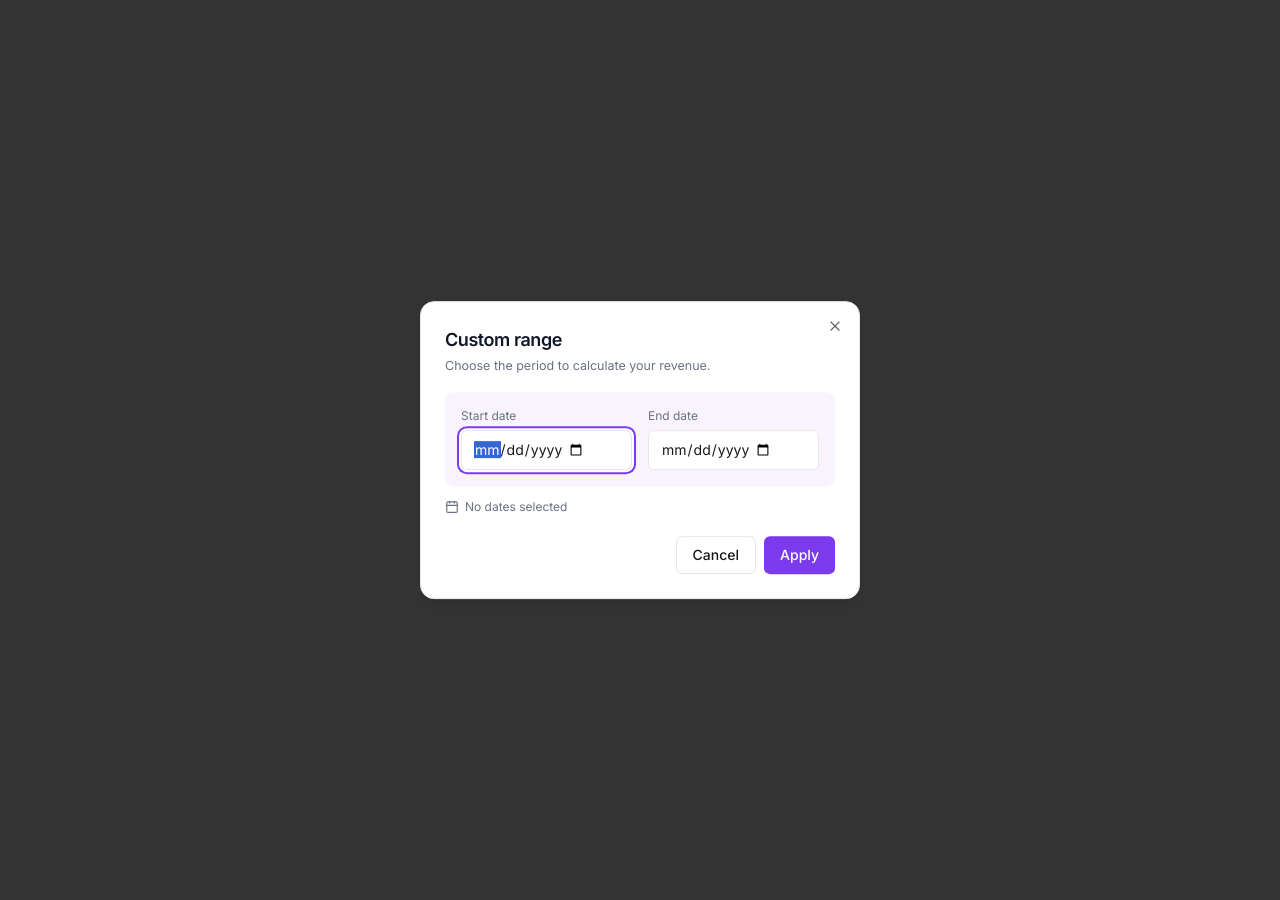
CustomRangeModal › stays open with the error line when a date is missing and clears it on the next pick
The width and height of the screenshot is (1280, 900).
Click the button "Apply" at (800, 555), box [764,536,835,574]
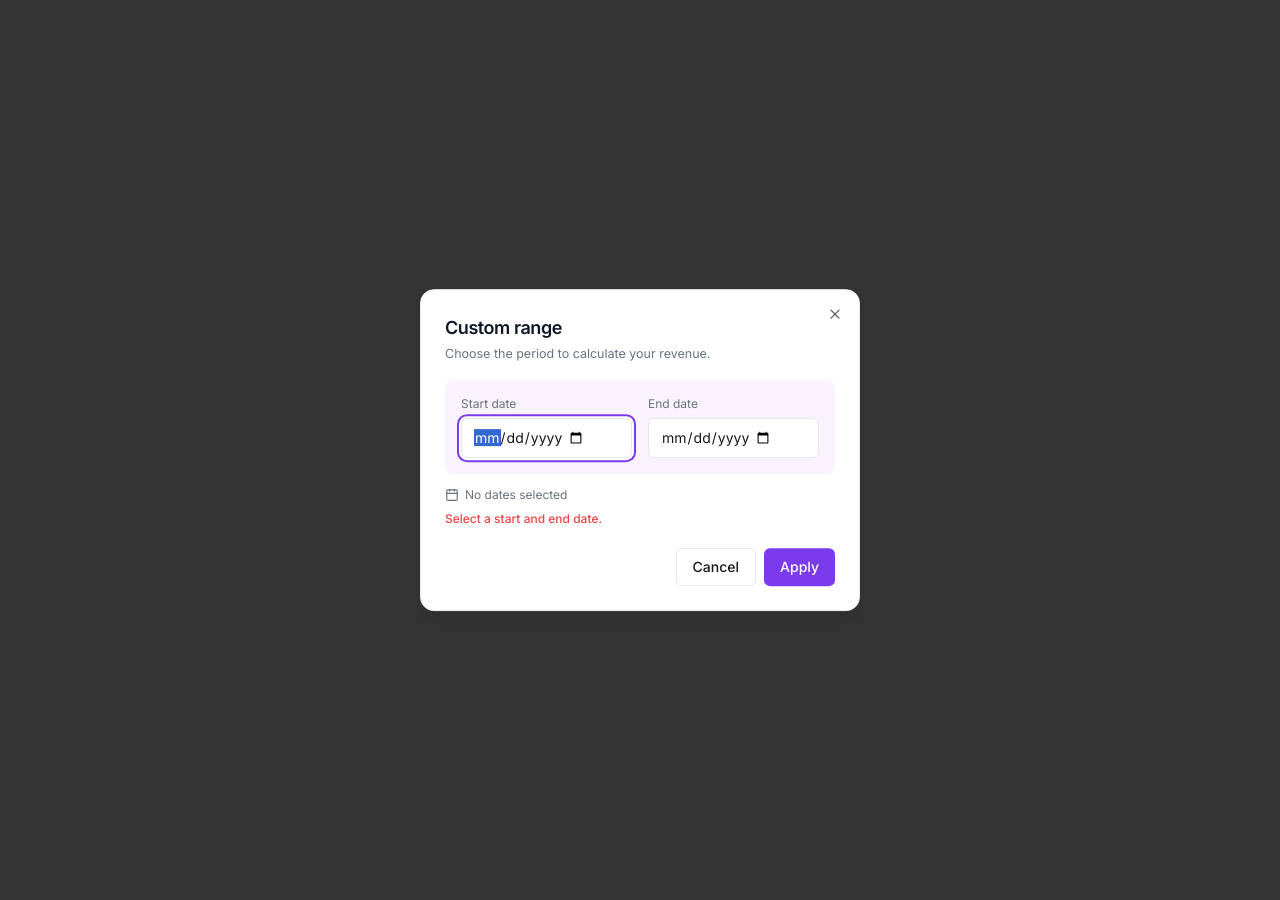
Expected: the dialog "Custom range" is shown, [420,289,860,611]
Expected: the message reads "Select a start and end date.", [445,511,602,526]
Type "2024-01-05" into the date field labelled "Start date" at (546, 438), box [461,418,632,458]
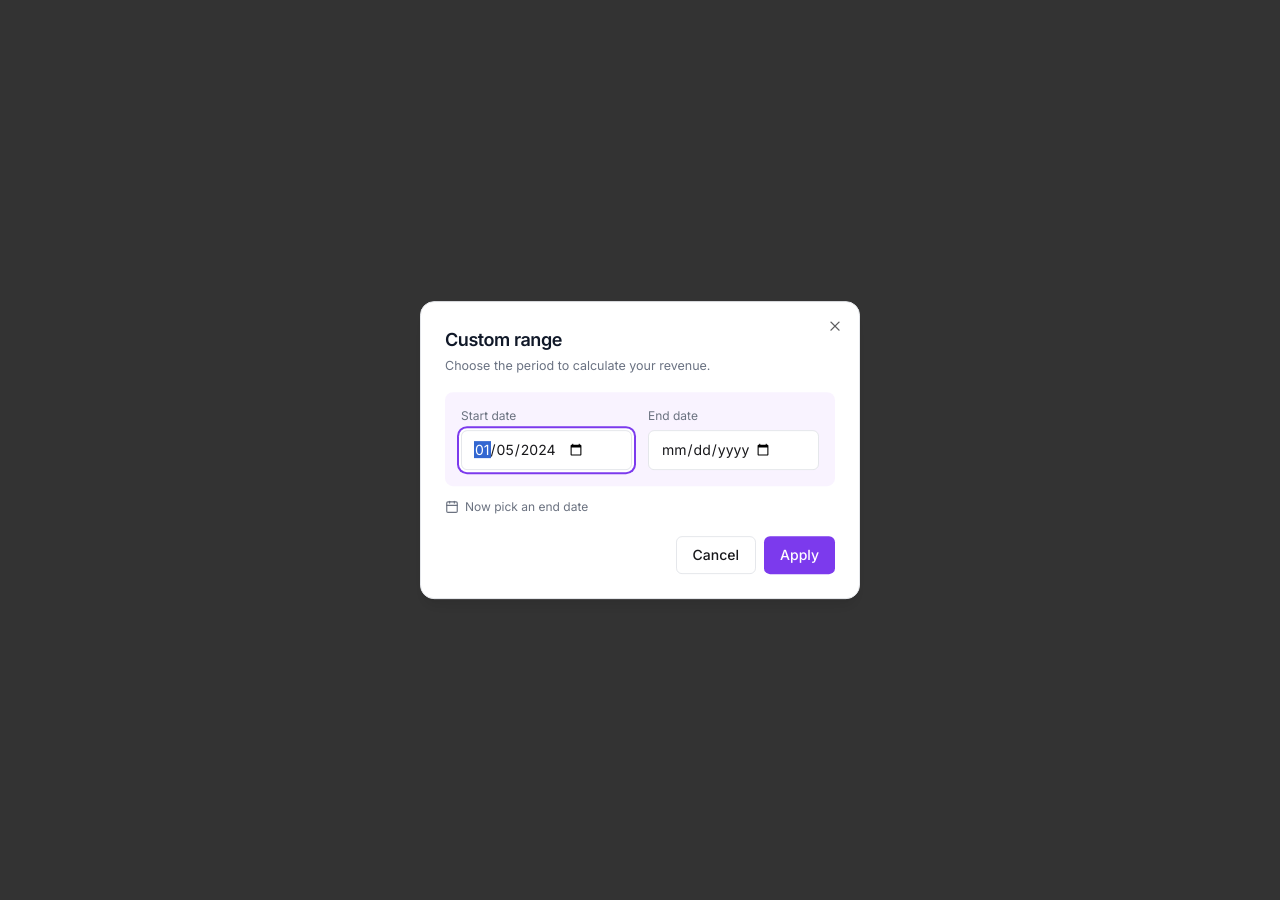
Expected: the message "Select a start and end date." is gone
Expected: the text "Now pick an end date" is shown, [465,498,588,516]
